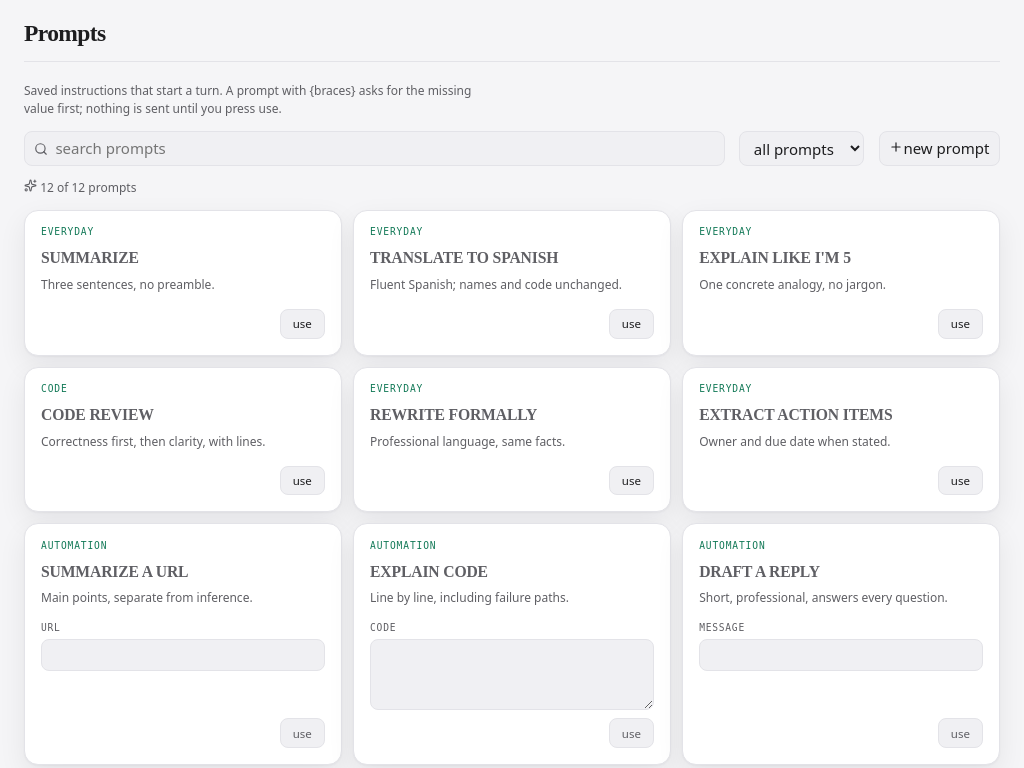
PromptsScreen › filters by search and by category
In the field labelled "search prompts": (374, 149) [24,131,725,166], type "translate"
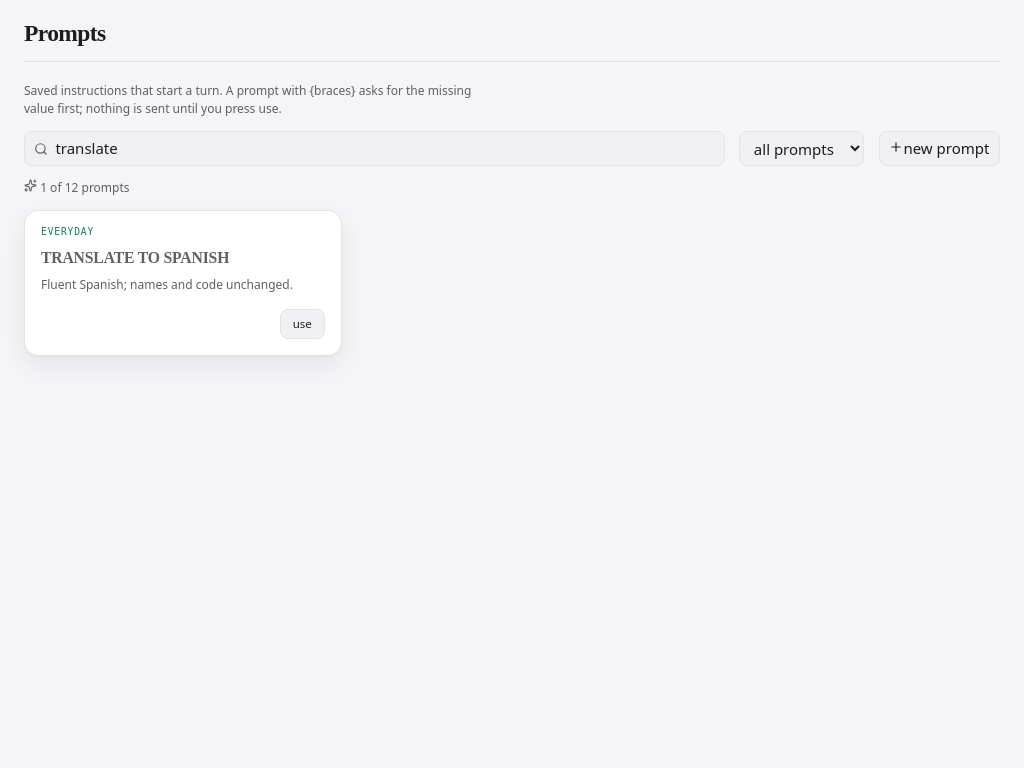
Check: the heading "Translate to Spanish" is shown, box [41,249,229,266]
Check: the heading "Summarize" is gone
Clear the field named "search prompts": (374, 149) [24,131,725,166]
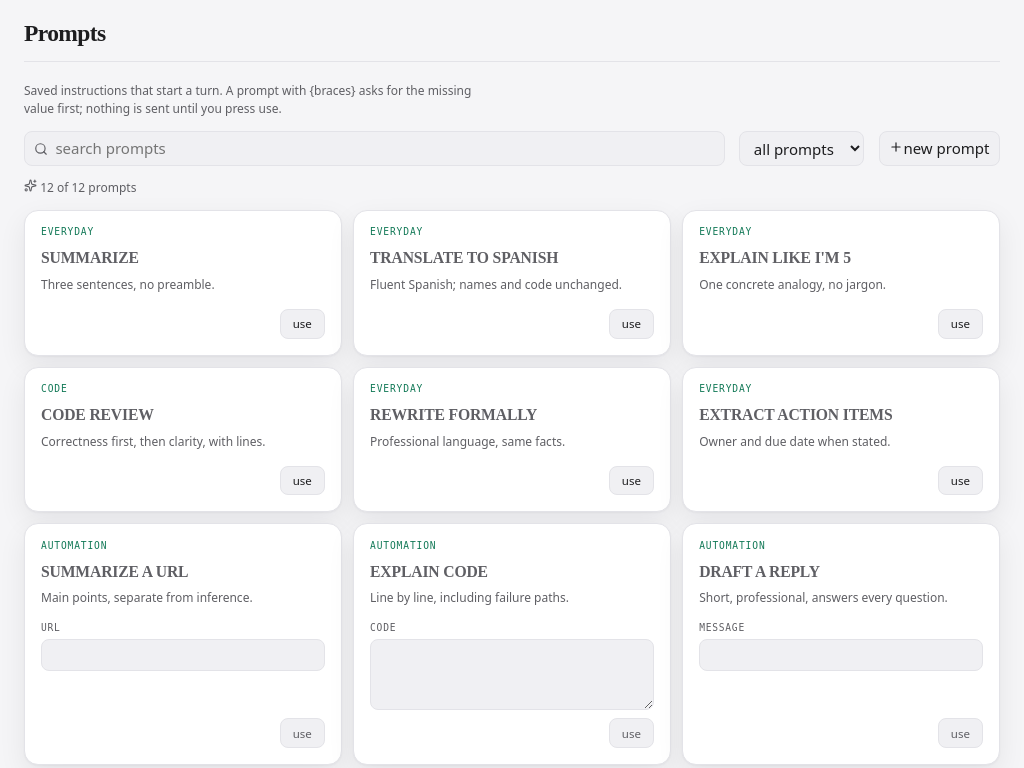
Select "Code" in the dropdown named "prompt category": (802, 149) [739,131,864,166]
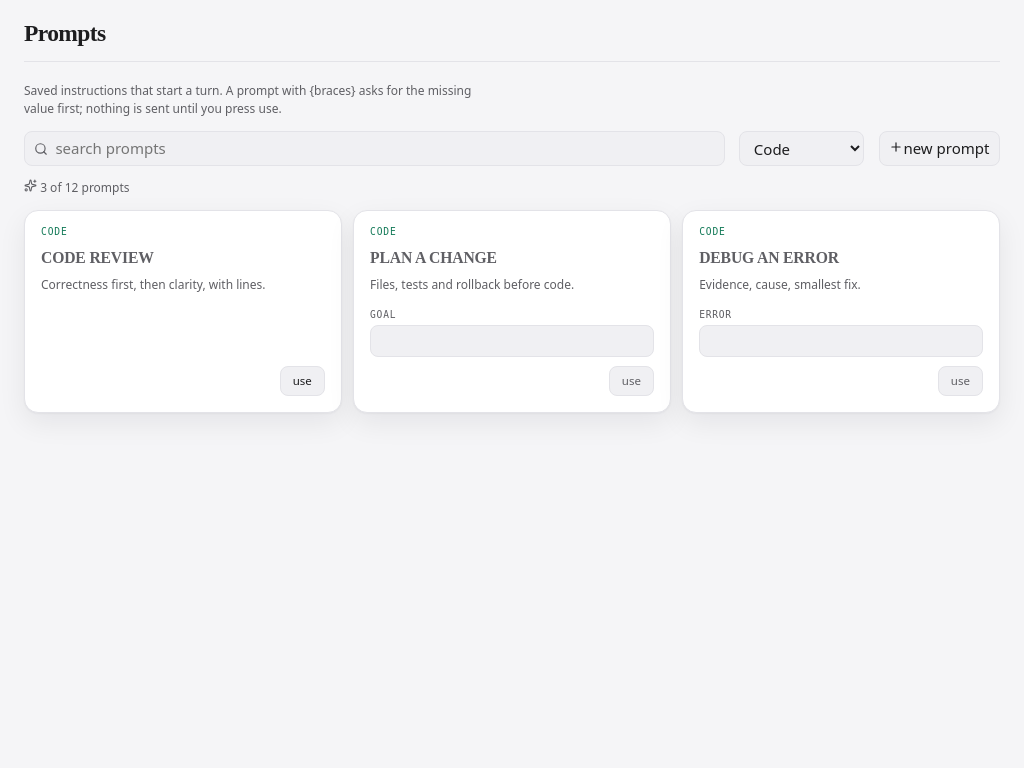
Check: the heading "Code review" is shown, box [41,249,154,266]
Check: the heading "Summarize" is gone
